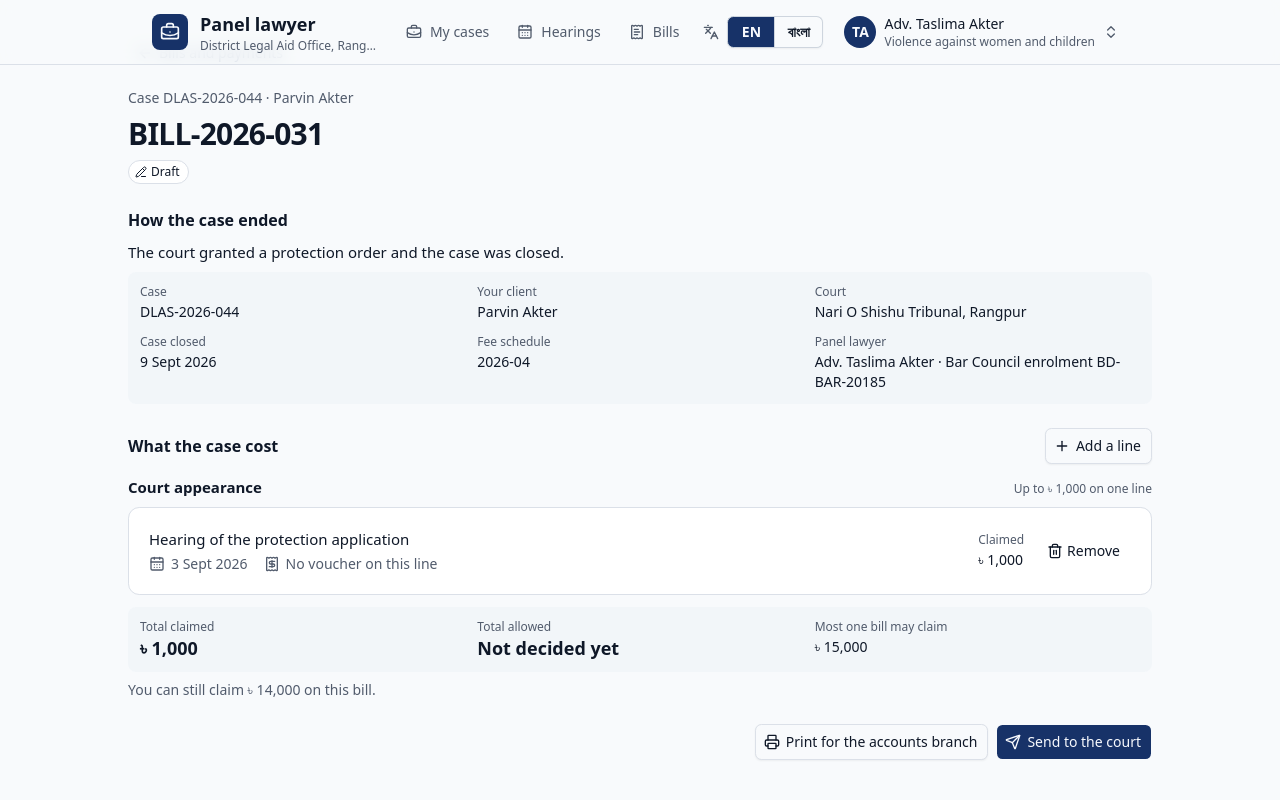
Test: the Bill Gadget with a backend (VITE_API_URL) › sends the bill to the court and shows what the server answers
The width and height of the screenshot is (1280, 800).
(page scrolled)
Click the button "Send to the court" at (1074, 742), box [996,724,1152,760]
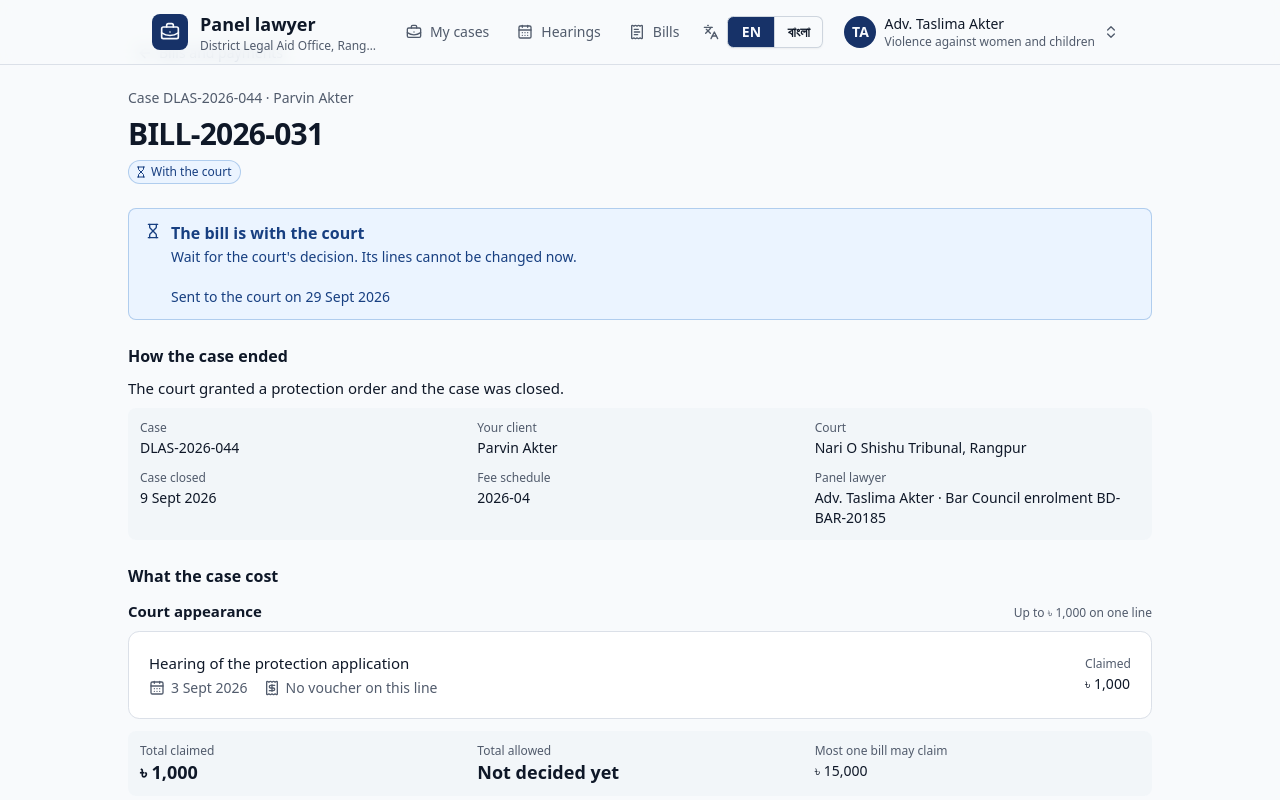
Expected: the text "The bill is with the court" is shown, [171,222,364,244]
Expected: the button "Add a line" is gone
